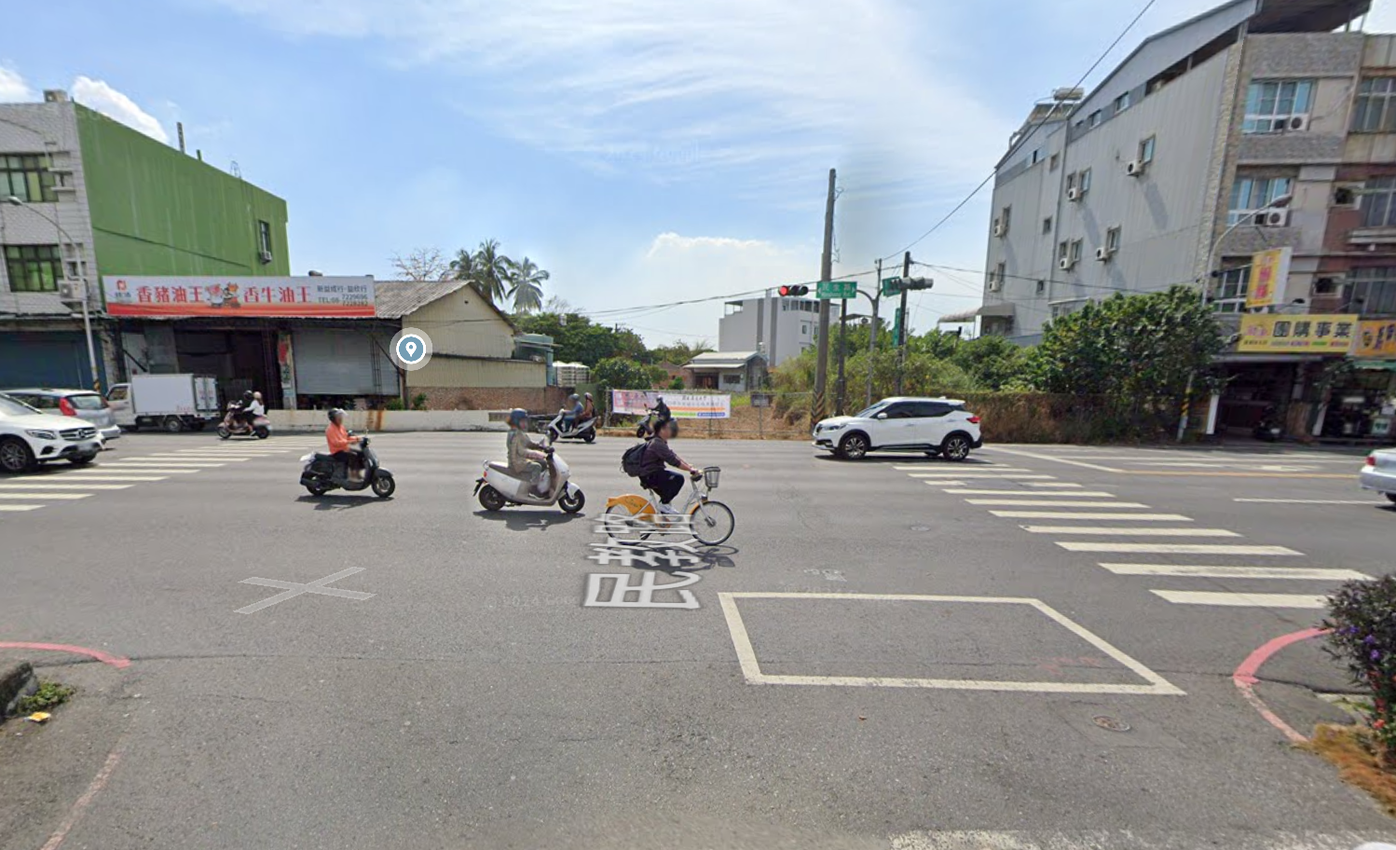red: (776, 284, 809, 300)
